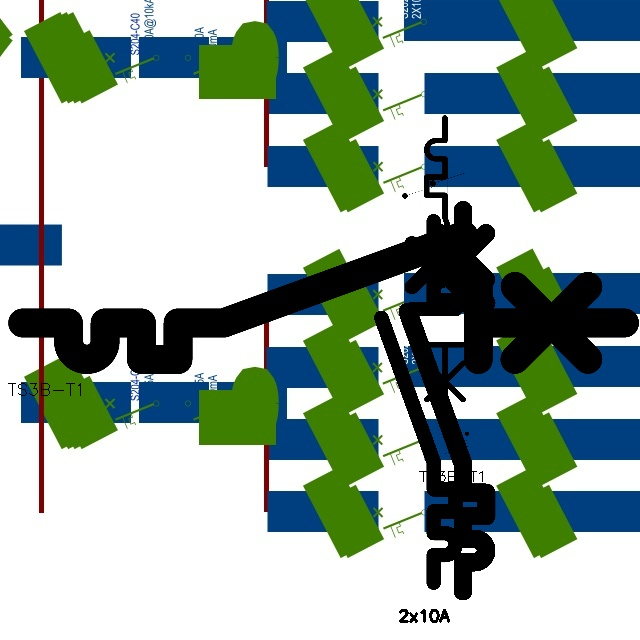interruptor_termomagnetico: (7, 220, 640, 375), (398, 200, 496, 600), (372, 212, 465, 592), (419, 110, 496, 426)
